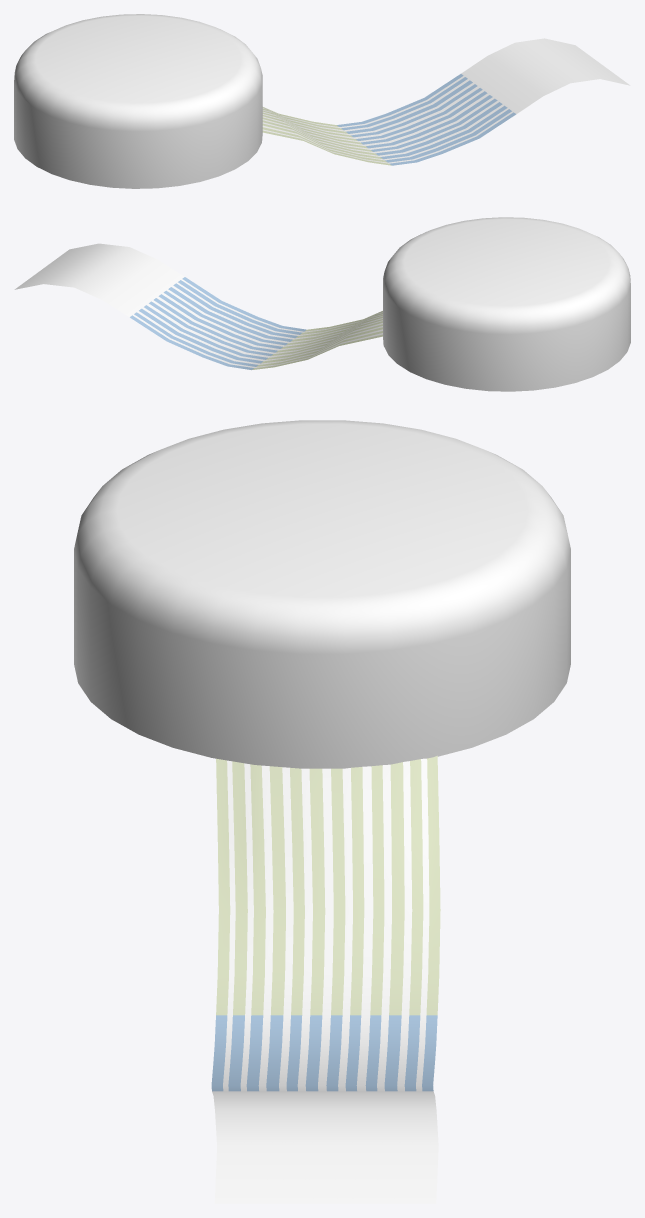
Rendered from Sketchfab_2020_08_31_20_15_30.fbx.
3 views of the same model, one above another, from view 1: azimuth 30°, elevation 25°; view 2: azimuth 150°, elevation 25°; view 3: azimuth 270°, elevation 25° (orthographic). The views are drawn at different scales.
Parts seen in each view (by area): view 1: Cylinder, Cylinder.002; view 2: Cylinder, Cylinder.002; view 3: Cylinder, Cylinder.002.
Part boxes in pixels (left/top/right/bottom): Cylinder: left=14, top=14, right=262, bottom=188; Cylinder.002: left=262, top=38, right=630, bottom=165; Cylinder: left=383, top=217, right=630, bottom=391; Cylinder.002: left=14, top=243, right=382, bottom=370; Cylinder: left=74, top=420, right=570, bottom=768; Cylinder.002: left=211, top=755, right=440, bottom=1203.
Size of the model in its own units: 531 by 128 by 200.
